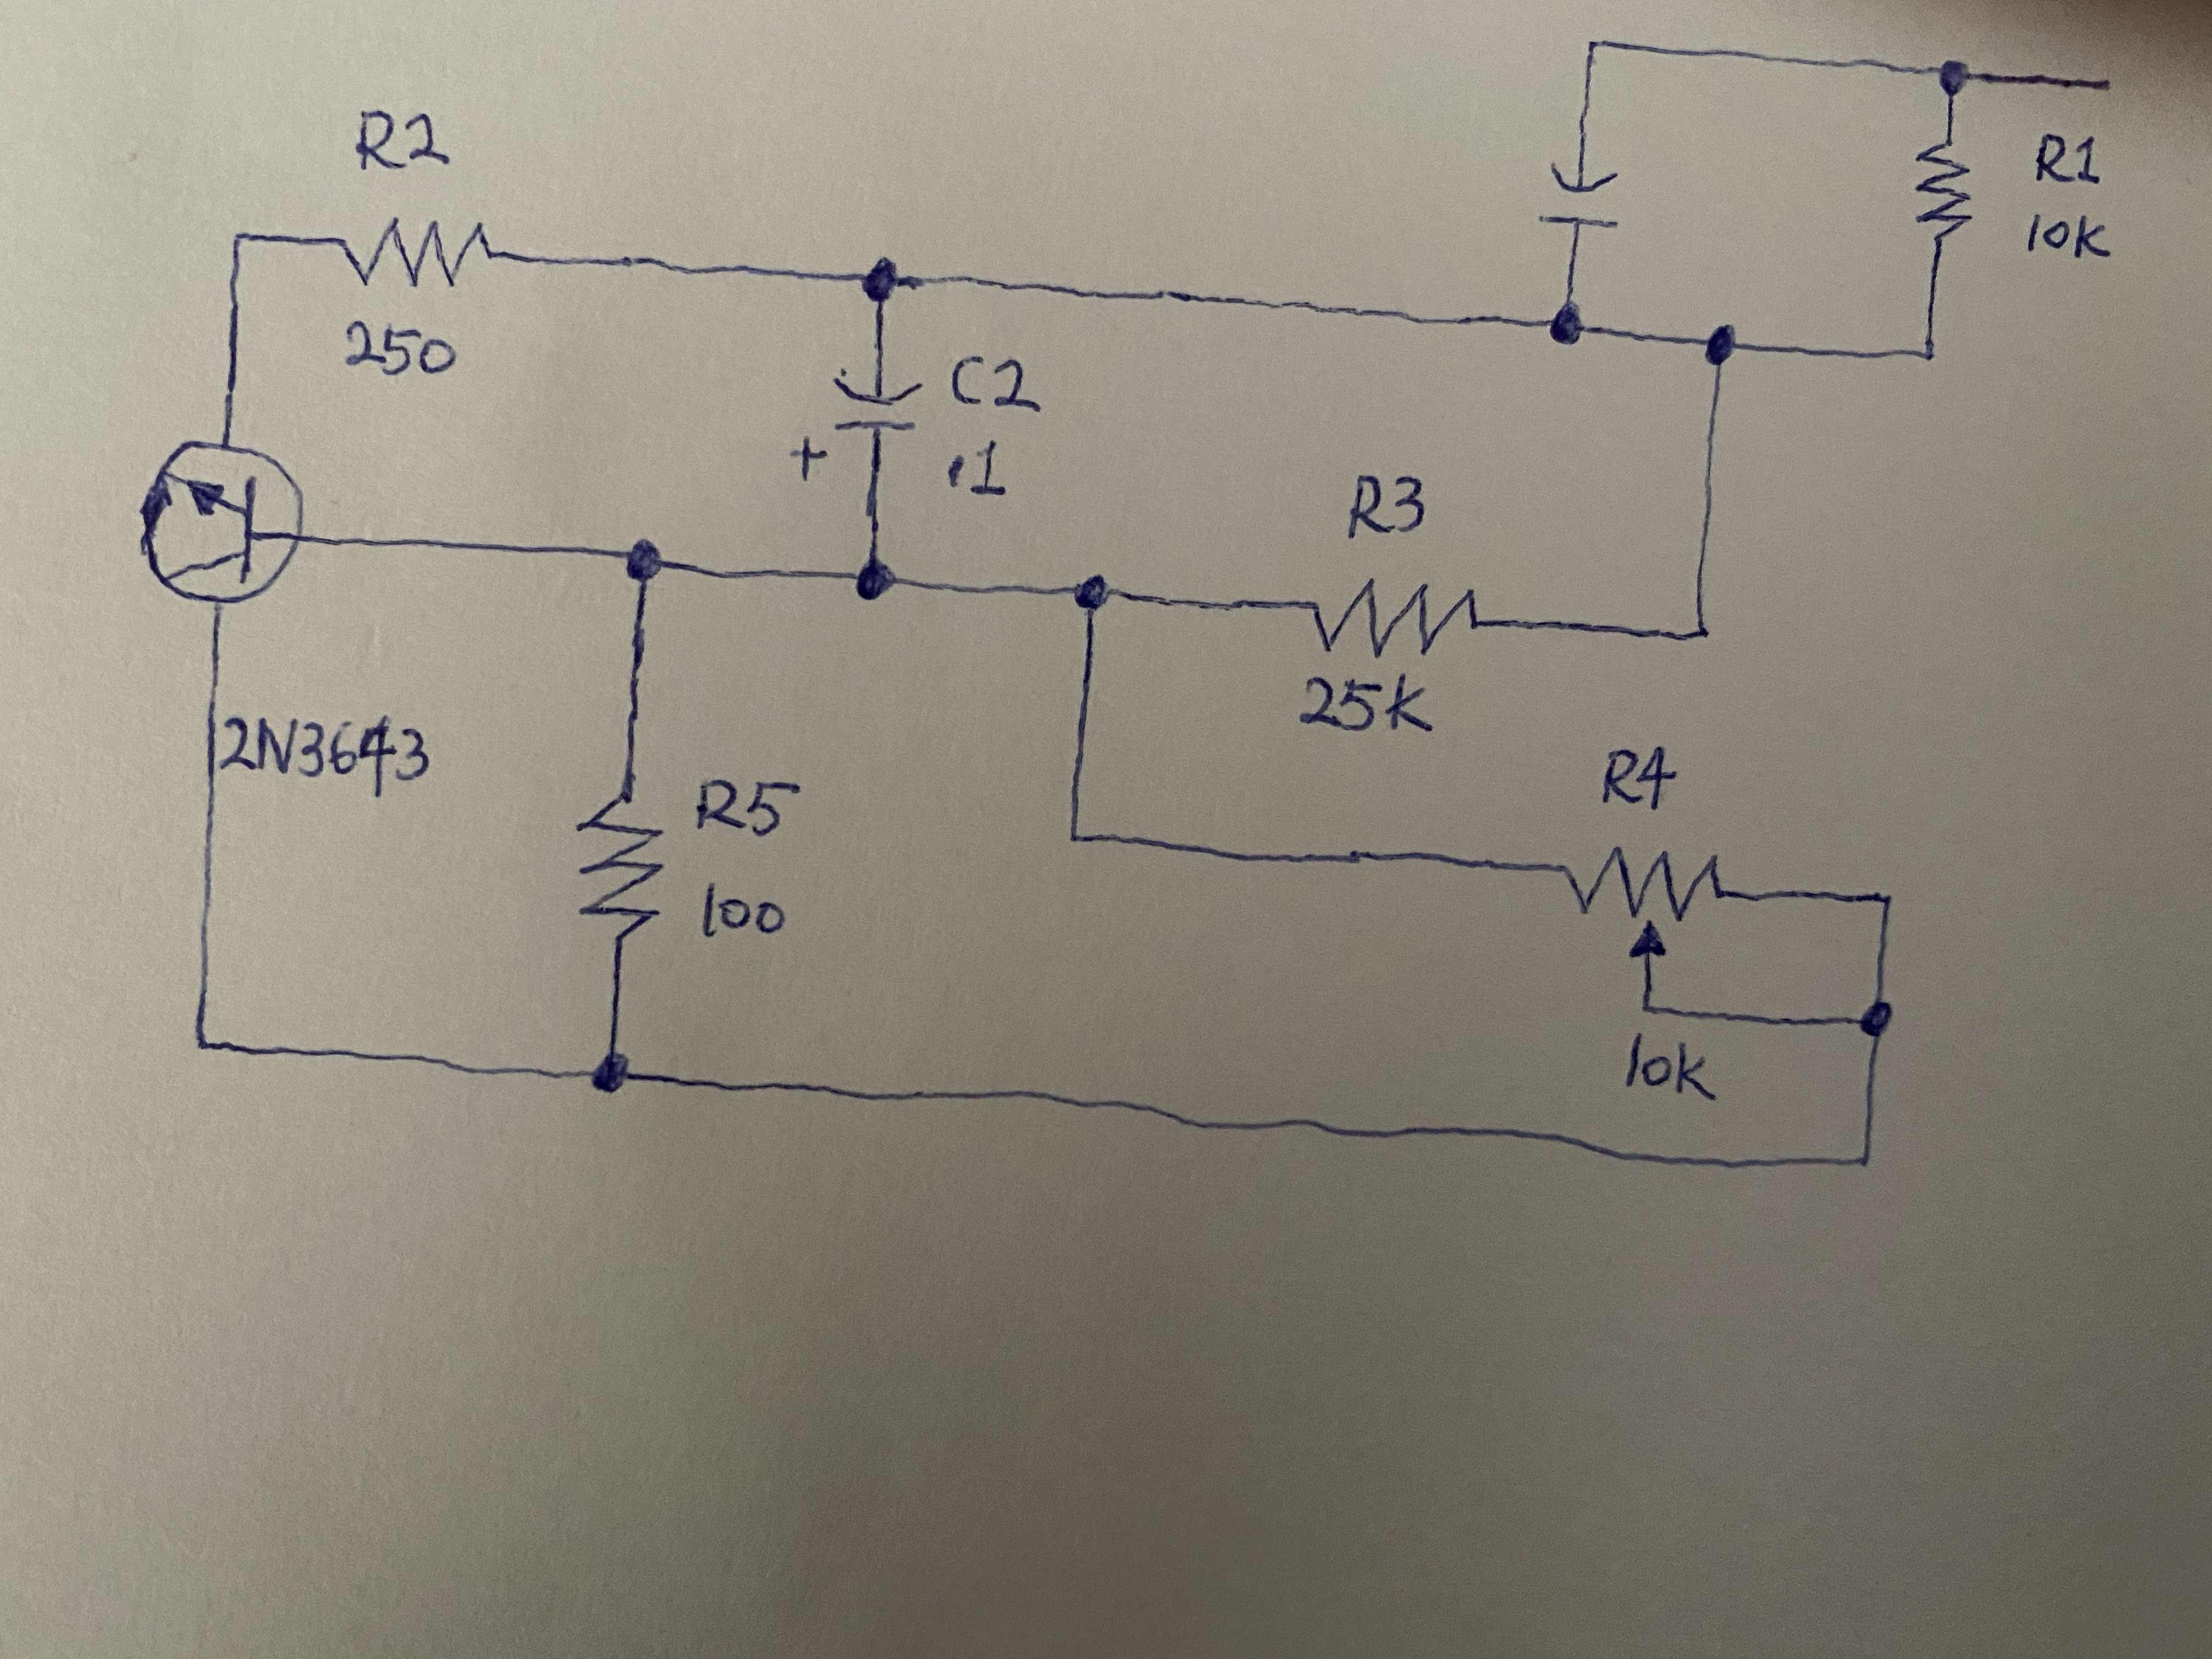capacitor.polarized: (787, 366, 925, 483)
capacitor.unpolarized: (1534, 157, 1632, 237)
junction: (1050, 552, 1139, 638), (571, 1026, 653, 1112), (836, 537, 914, 626), (603, 523, 688, 601), (1655, 587, 1738, 666), (1522, 282, 1602, 362), (164, 1002, 246, 1080), (841, 240, 927, 314), (1683, 305, 1759, 380), (1846, 863, 1921, 934), (1918, 37, 1980, 106), (1843, 978, 1905, 1046), (1824, 1134, 1900, 1188), (1561, 21, 1625, 80), (1904, 319, 1959, 385), (214, 202, 270, 263), (1049, 803, 1104, 863), (1629, 985, 1676, 1025)
resistor: (568, 775, 671, 946), (1294, 575, 1500, 659), (333, 207, 505, 295), (1909, 131, 1979, 251)
resistor.adjustable: (1555, 842, 1728, 962)
terminal: (2060, 47, 2141, 106)
text: (219, 708, 434, 796), (1296, 669, 1444, 746), (338, 307, 463, 387), (686, 765, 803, 843), (1620, 1030, 1724, 1114), (350, 98, 453, 178), (949, 347, 1050, 420), (1345, 464, 1432, 544), (695, 878, 792, 948), (1594, 741, 1686, 812), (2022, 207, 2123, 272), (2027, 124, 2111, 195), (944, 434, 1017, 507)
transistor: (131, 429, 327, 627)
